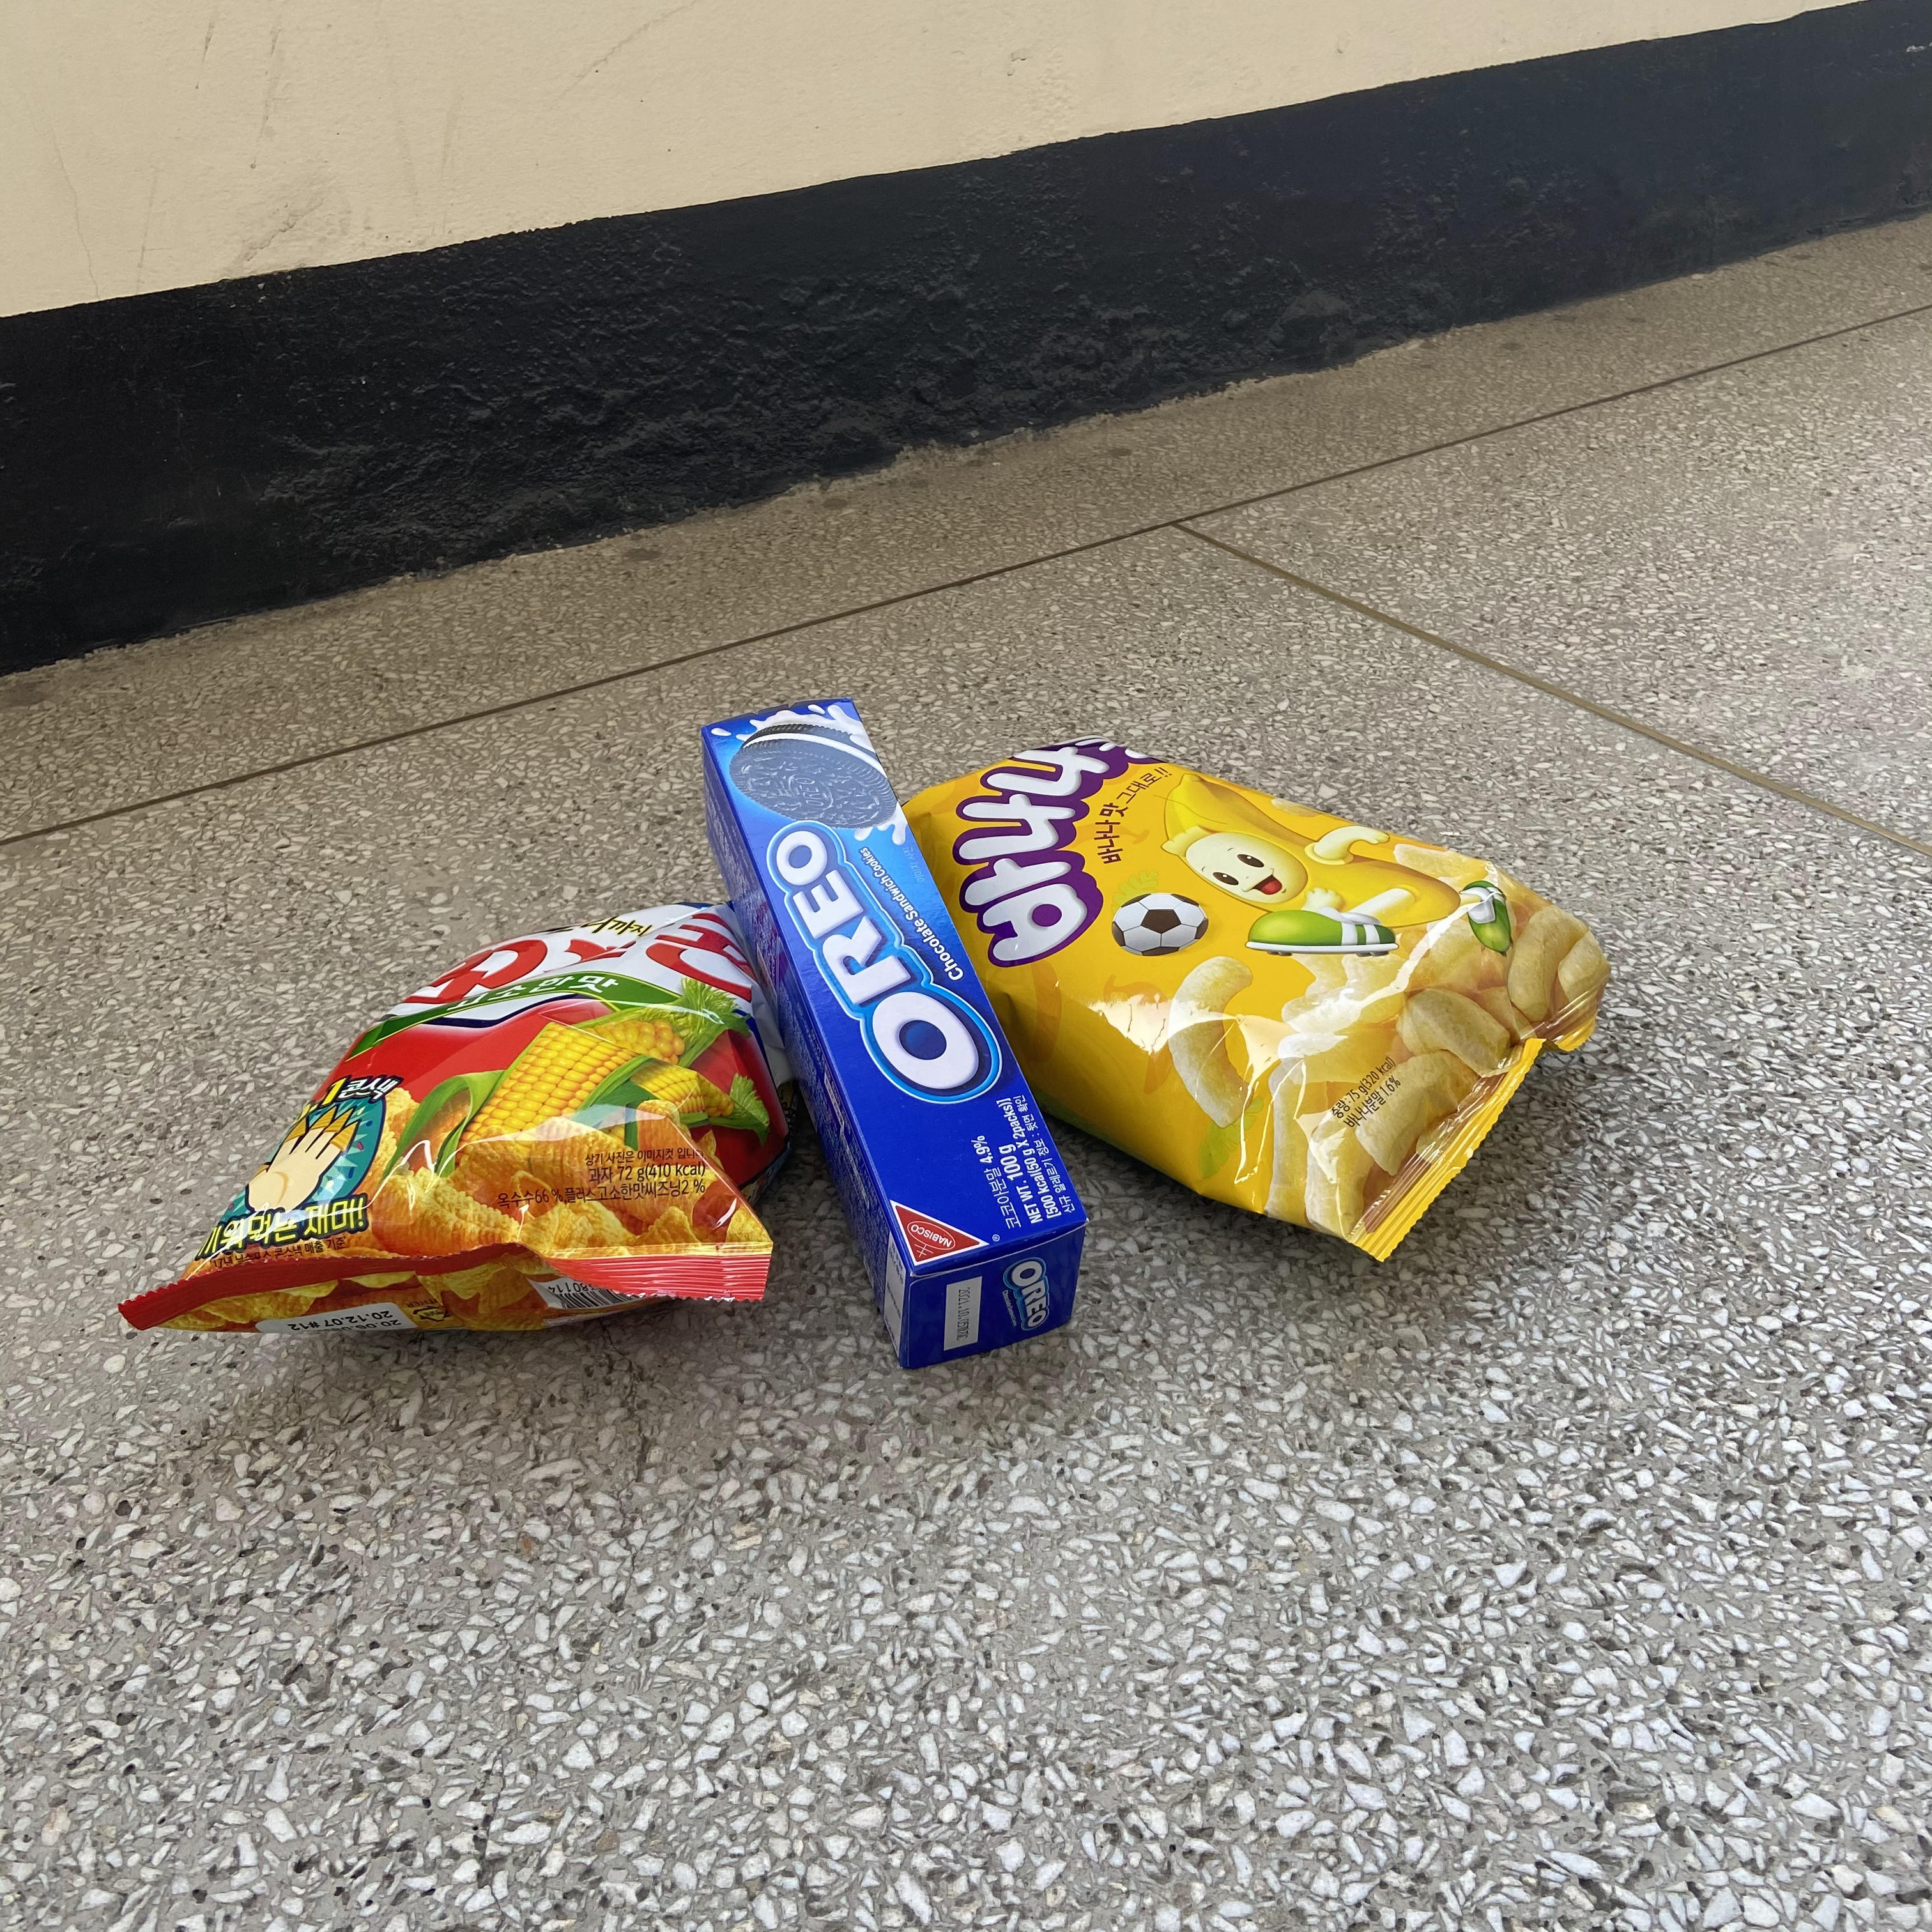banana: (886, 731, 1622, 1279)
ggoggalcon: (113, 885, 833, 1362)
oreo: (683, 688, 1095, 1371)
